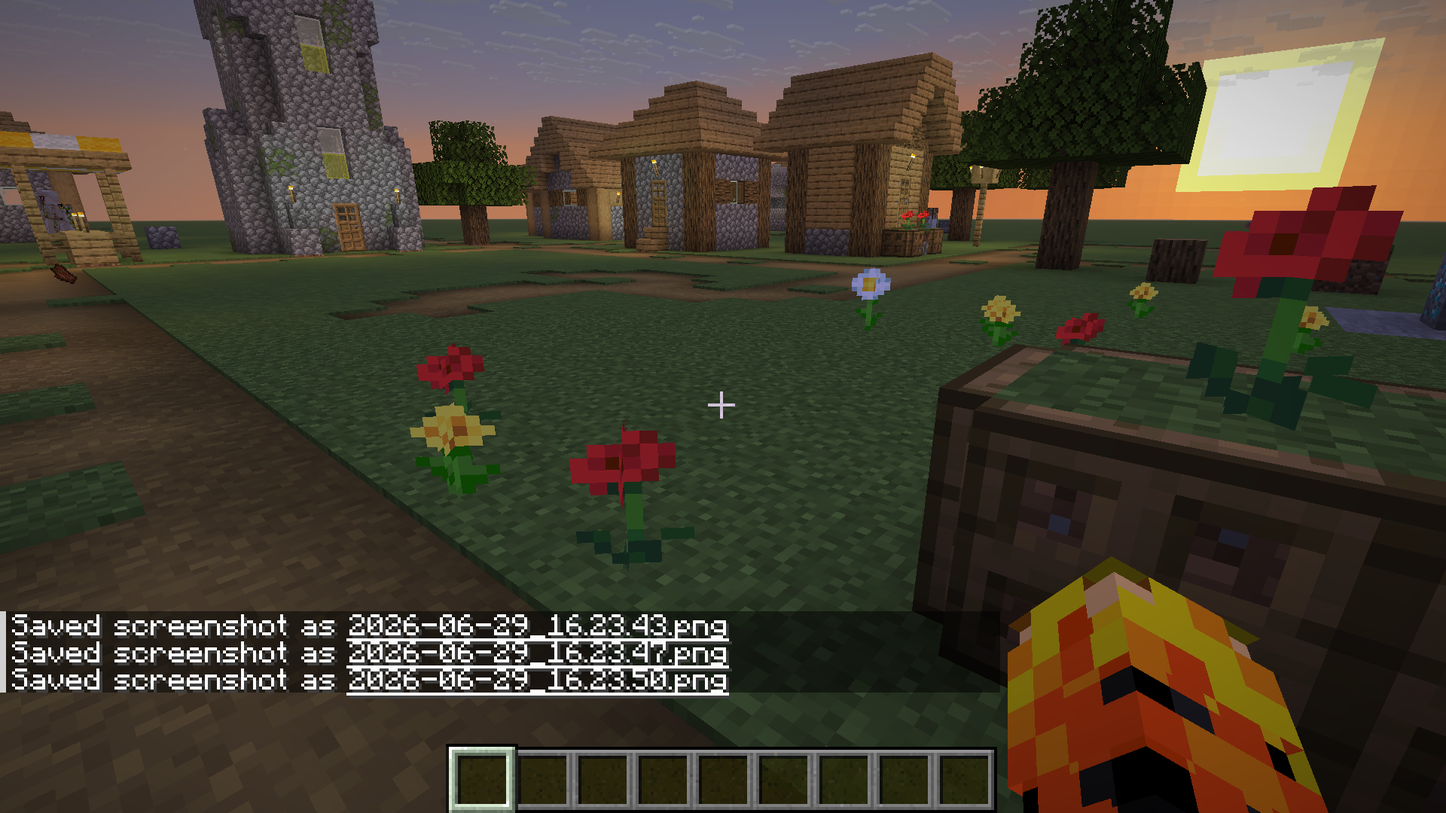Tree: (967, 8, 1193, 265), (411, 110, 533, 263)
flower: (1193, 182, 1399, 452), (408, 398, 513, 511), (842, 255, 892, 340)
